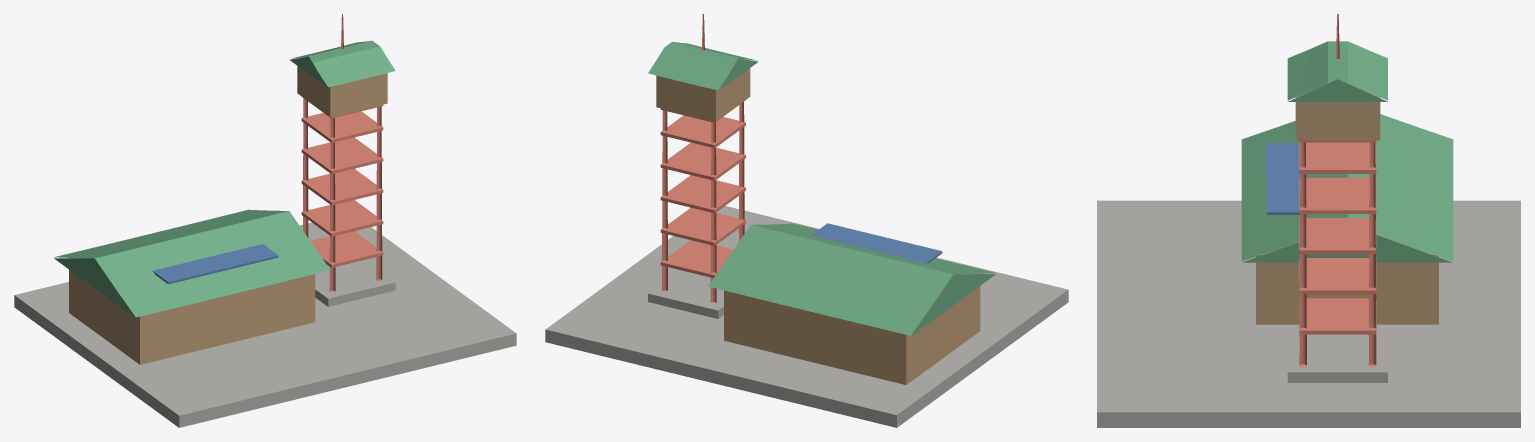
File: lm_80_tram_kiem_lam_watchtower_vqg_bidoup_nui_ba.glb
3 views of the same model, side by side, from view 1: azimuth 30°, elevation 25°; view 2: azimuth 150°, elevation 25°; view 3: azimuth 270°, elevation 25° (orthographic). The views are drawn at different scales.
Parts seen in each view (by area): view 1: lm_80_tram_kiem_lam_watchtower_vqg_bidoup_nui_ba; view 2: lm_80_tram_kiem_lam_watchtower_vqg_bidoup_nui_ba; view 3: lm_80_tram_kiem_lam_watchtower_vqg_bidoup_nui_ba.
Part boxes in pixels (x1,y1,x2,y2): lm_80_tram_kiem_lam_watchtower_vqg_bidoup_nui_ba: [14, 14, 516, 427]; lm_80_tram_kiem_lam_watchtower_vqg_bidoup_nui_ba: [545, 14, 1068, 427]; lm_80_tram_kiem_lam_watchtower_vqg_bidoup_nui_ba: [1097, 14, 1520, 427].
Size of the model in its own units: 26 by 20.8 by 22.
